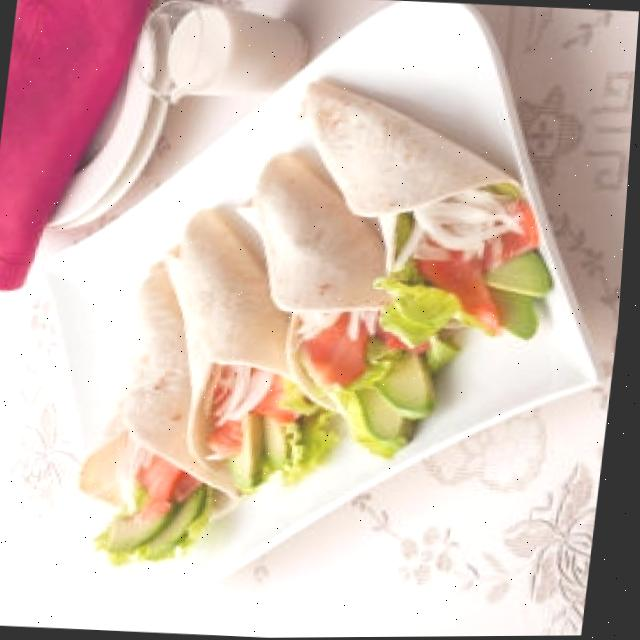面包点心: (0, 16, 622, 621)
